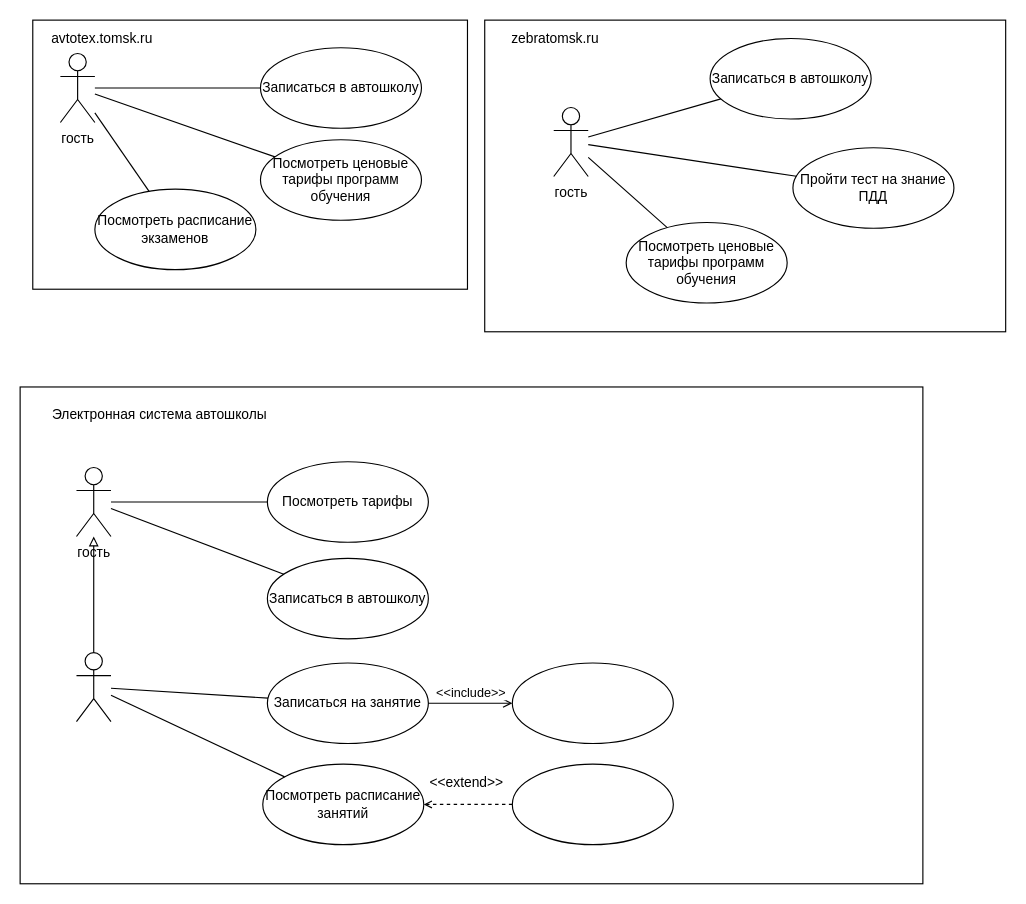
Image size: 1026x904. Some labels were removed from this diagram. The centre of each missing label's shape, as x and y in pixels:
"Оплатить занятие онлайн" belongs at pixel 592 702.
"пользователь" belongs at pixel 93 686.
"Применить фильтр по дате" belongs at pixel 592 804.
